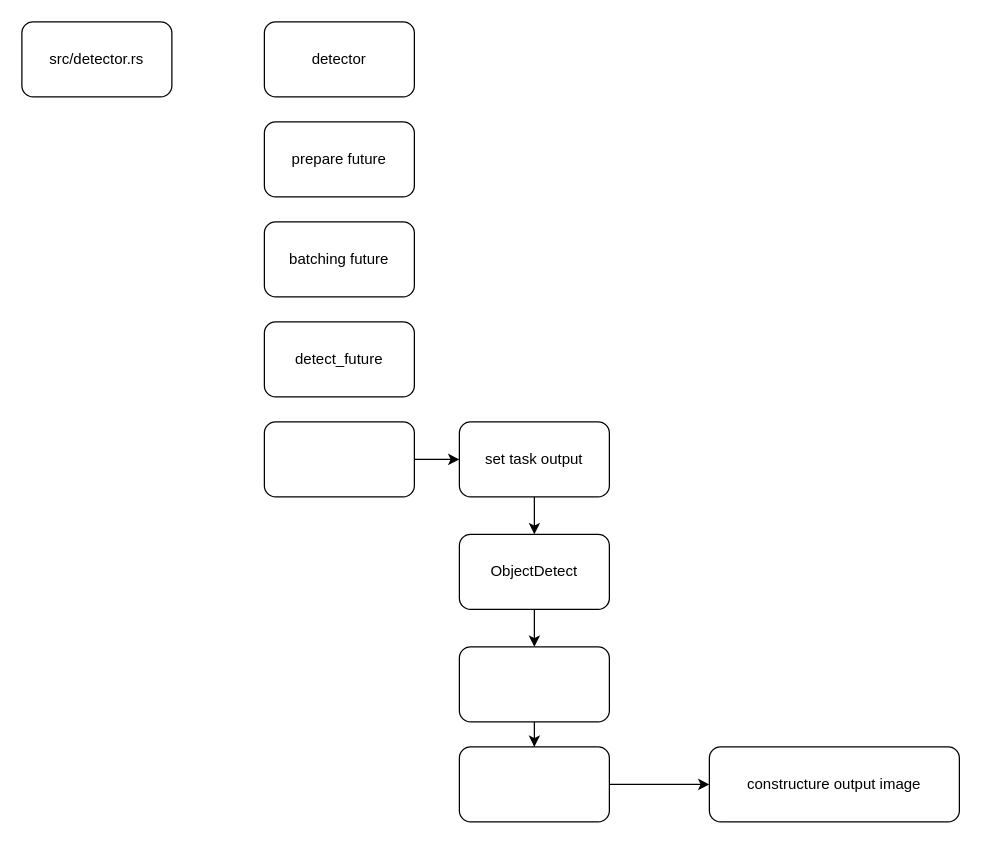
The diagram is 981 pixels wide and 844 high, and some of its shapes have lost their labels. The shapes that lost their labels are listed below. From the top down, each one's centre as x and y in pixels, then its label:
At (x=338, y=459): "publish_future".
At (x=533, y=684): "AggregateImage".
At (x=533, y=784): "AggregateMessage".
